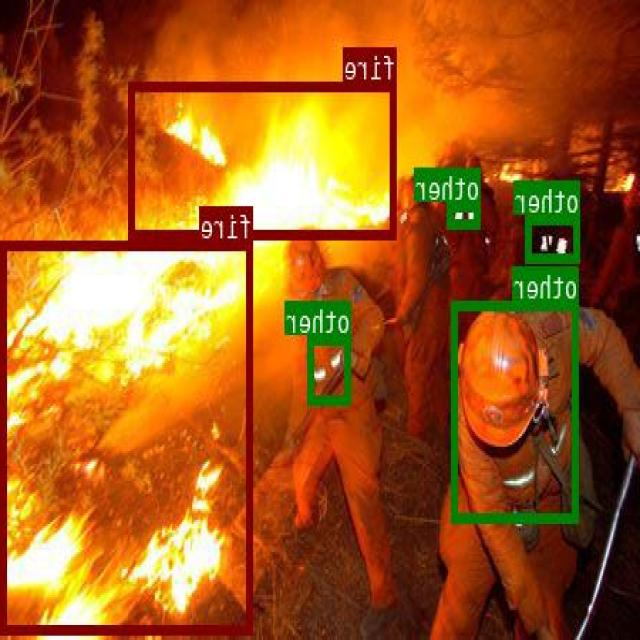fire: (3, 239, 253, 631), (130, 81, 398, 238)
other: (452, 299, 580, 520), (309, 335, 351, 403), (526, 214, 582, 262), (448, 201, 482, 226)
